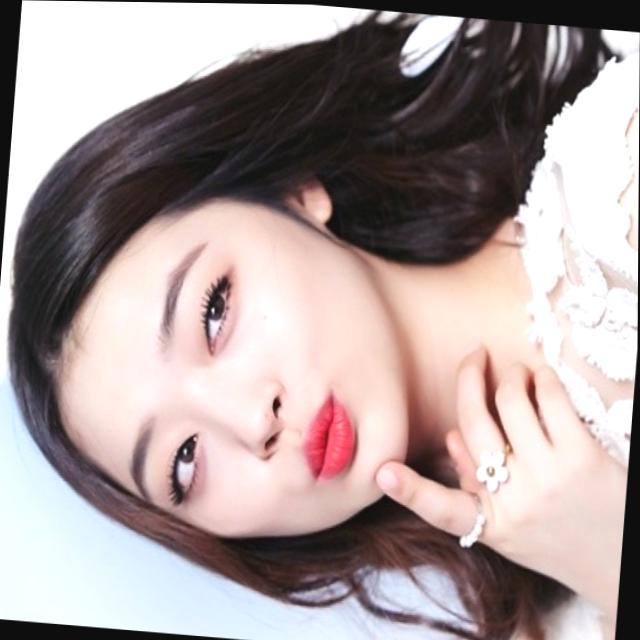face: (50, 200, 419, 546)
